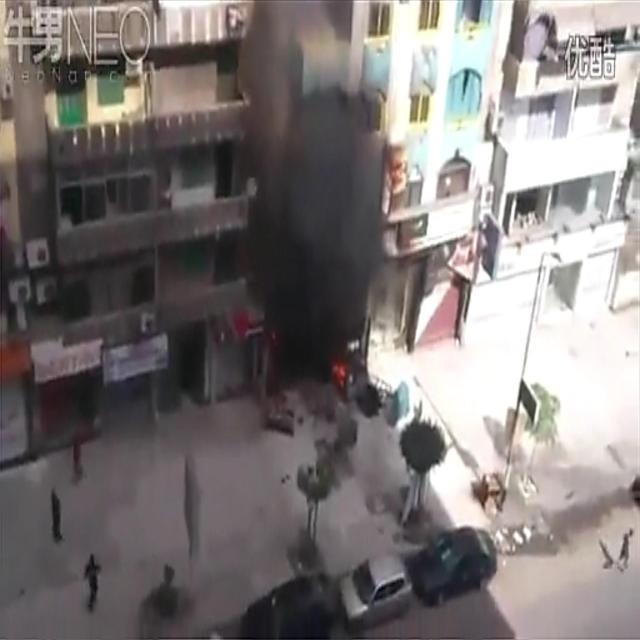fire: (331, 356, 348, 382)
smoke: (244, 0, 384, 379)
